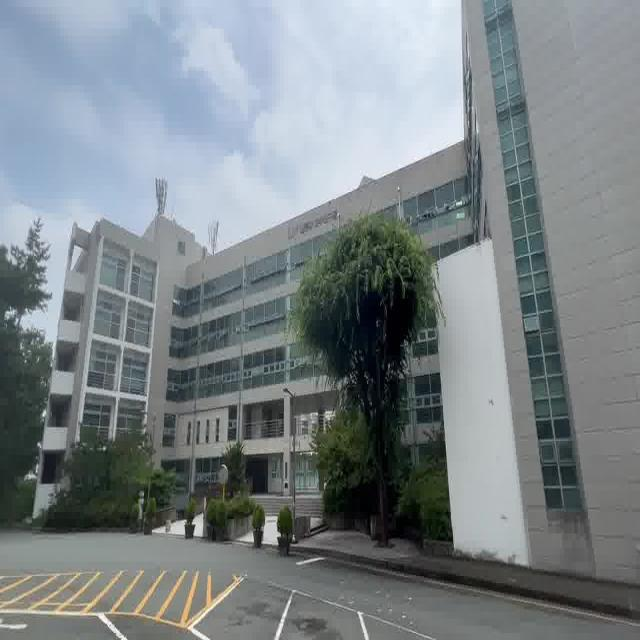building: (53, 180, 293, 427)
